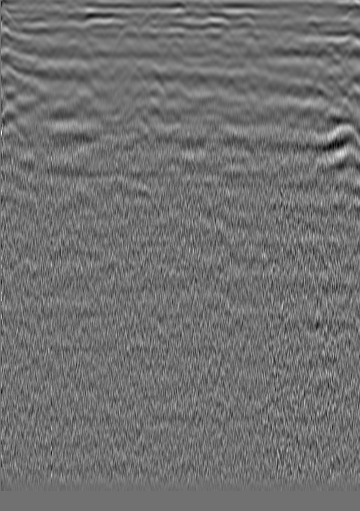가스: (108, 133, 142, 164)
상수: (302, 17, 322, 37)
오수: (35, 21, 55, 41)
우수: (165, 23, 185, 43)
